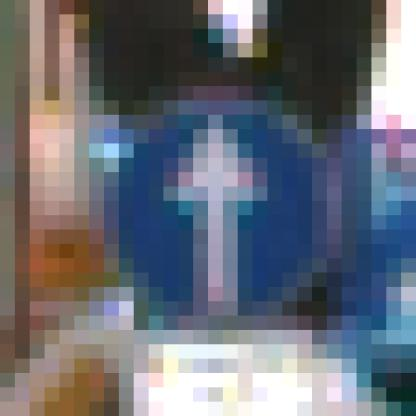AheadOnly: (75, 87, 328, 345)
